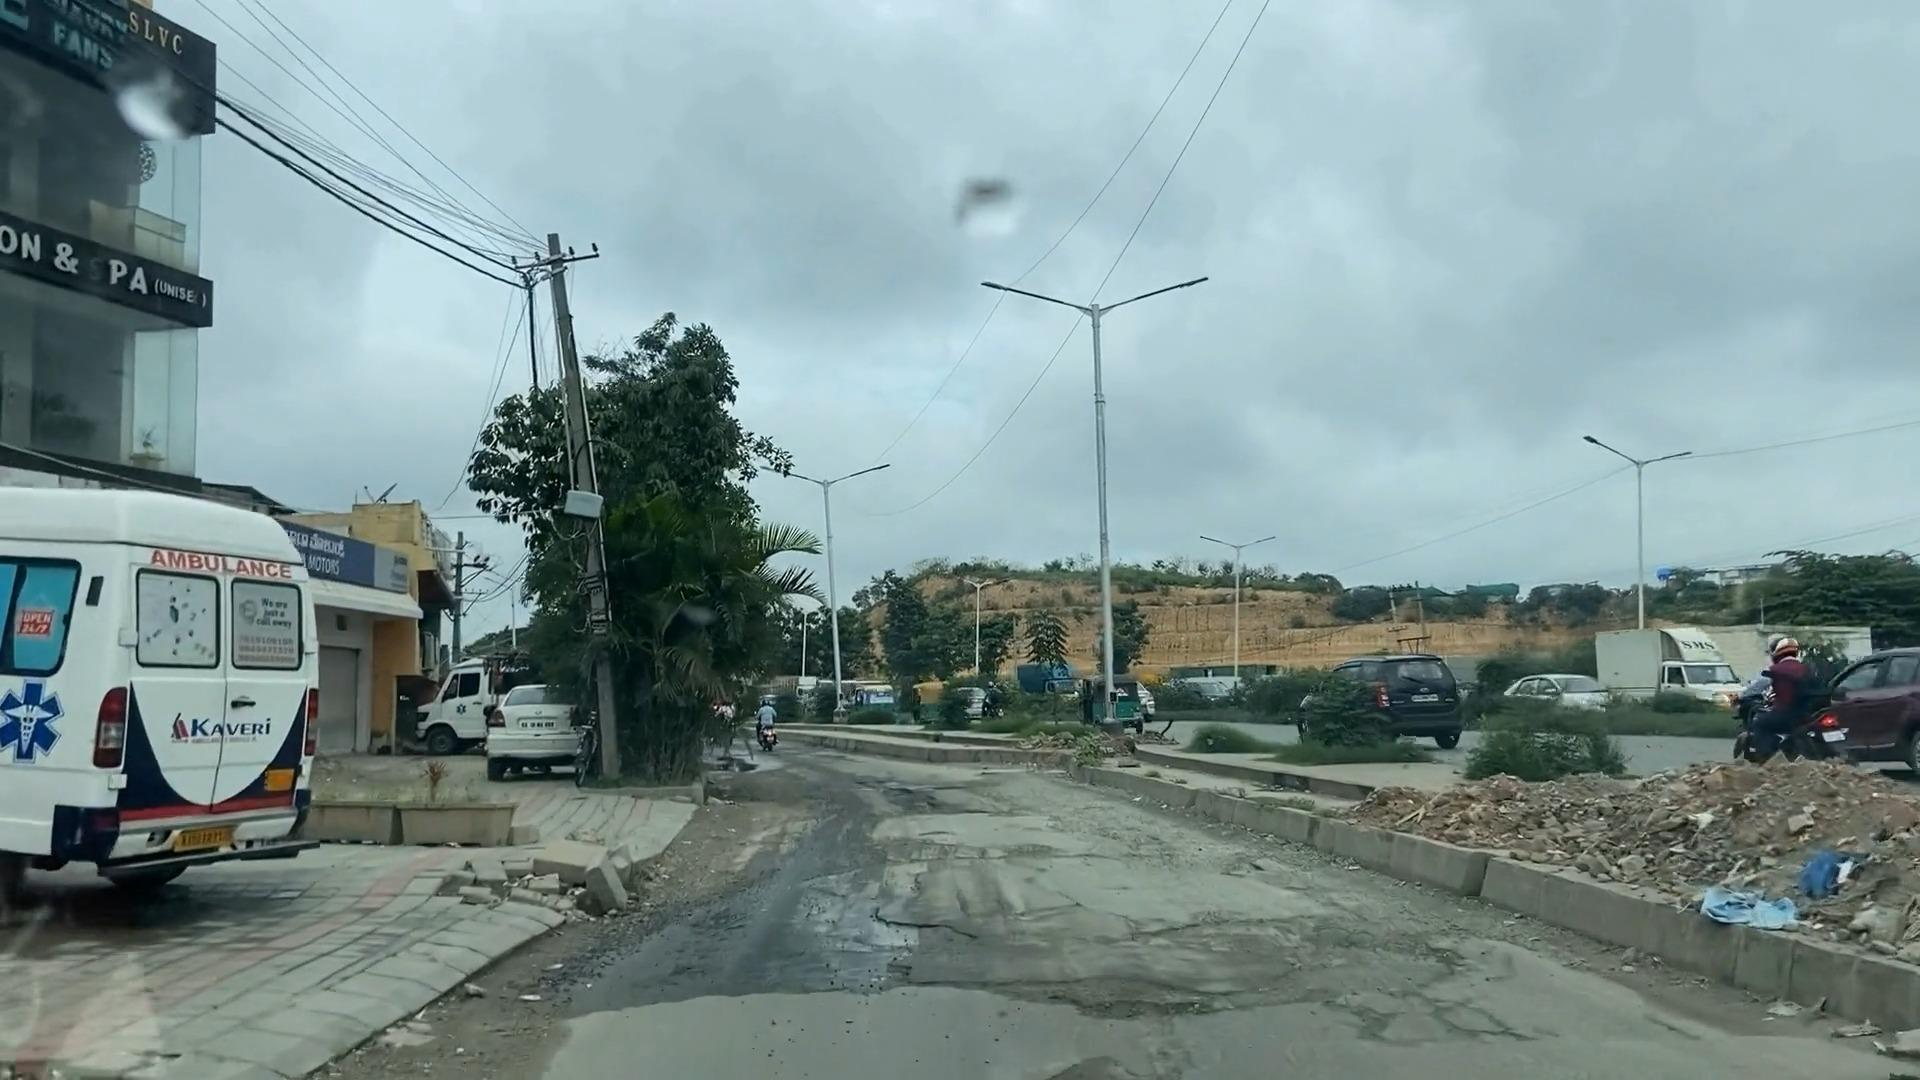RoadDamages: (556, 880, 1211, 1034), (1211, 864, 1626, 1050), (1000, 1030, 1207, 1080)
